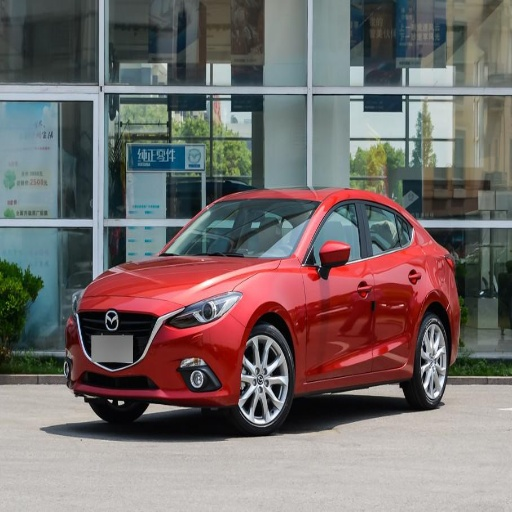back_glass: (363, 199, 426, 370)
back_right_light: (69, 295, 247, 405)
front_bumper: (162, 200, 318, 258)
front_glass: (303, 197, 375, 380)
front_left_door: (163, 290, 240, 328)
front_right_light: (84, 256, 284, 306)
trunk: (236, 324, 292, 433), (408, 314, 448, 409), (92, 398, 143, 425)
